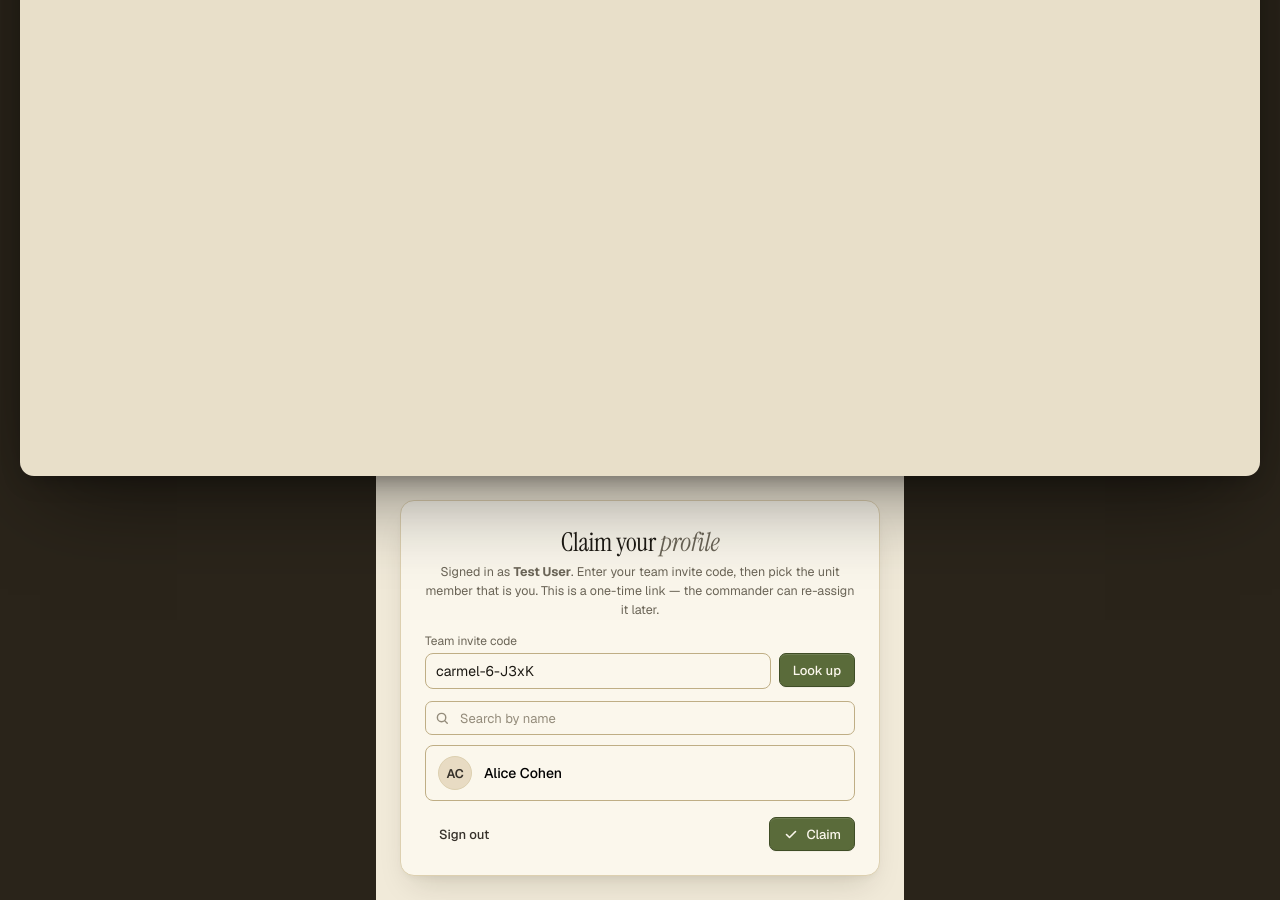
Test case: ClaimProfileScreen › shows an error message when the claim RPC rejects
(page scrolled)
Click the text "Alice Cohen". click: (523, 773)
box: 484,764 -> 562,782
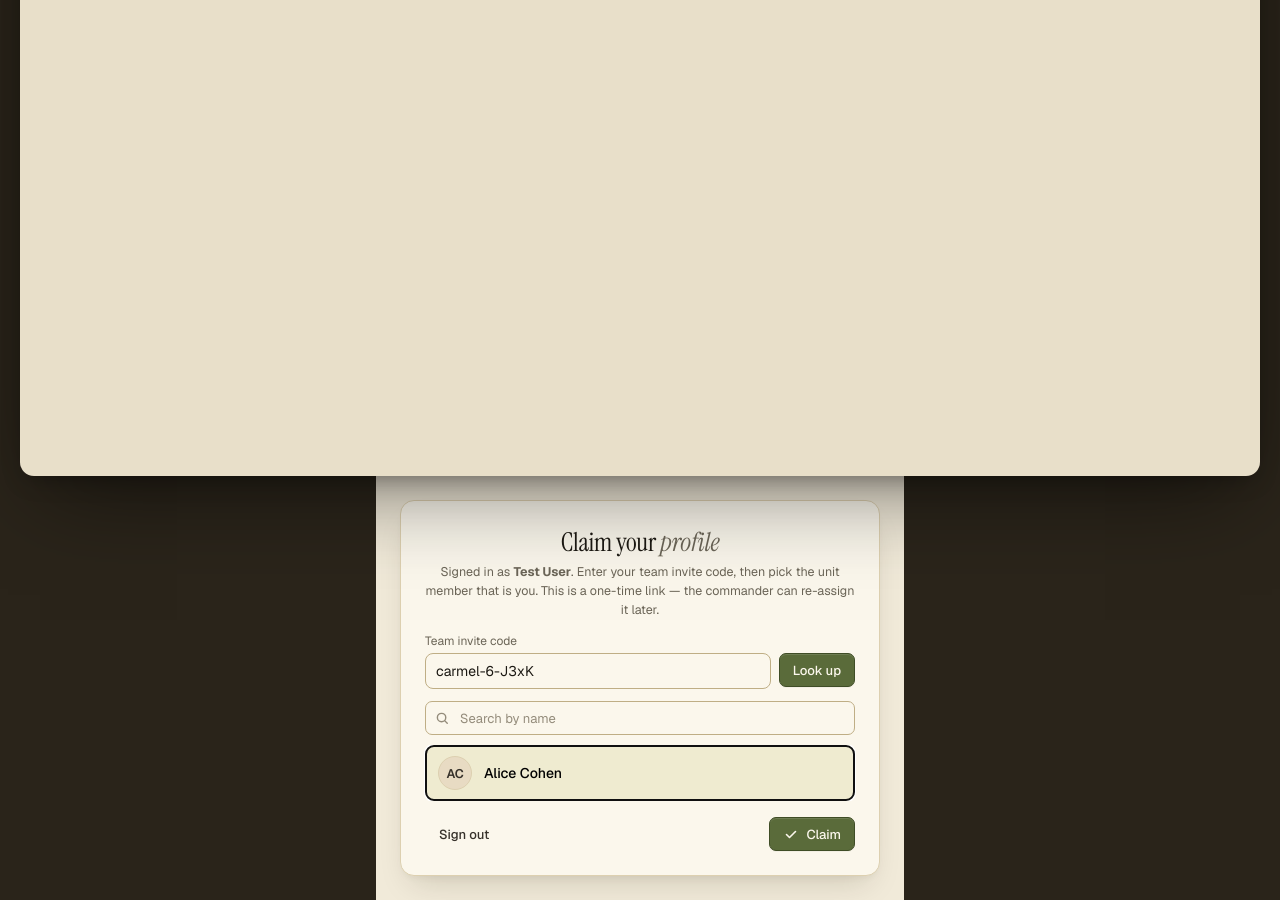
Click the button "Claim". click: (812, 834)
box: 769,817 -> 855,851
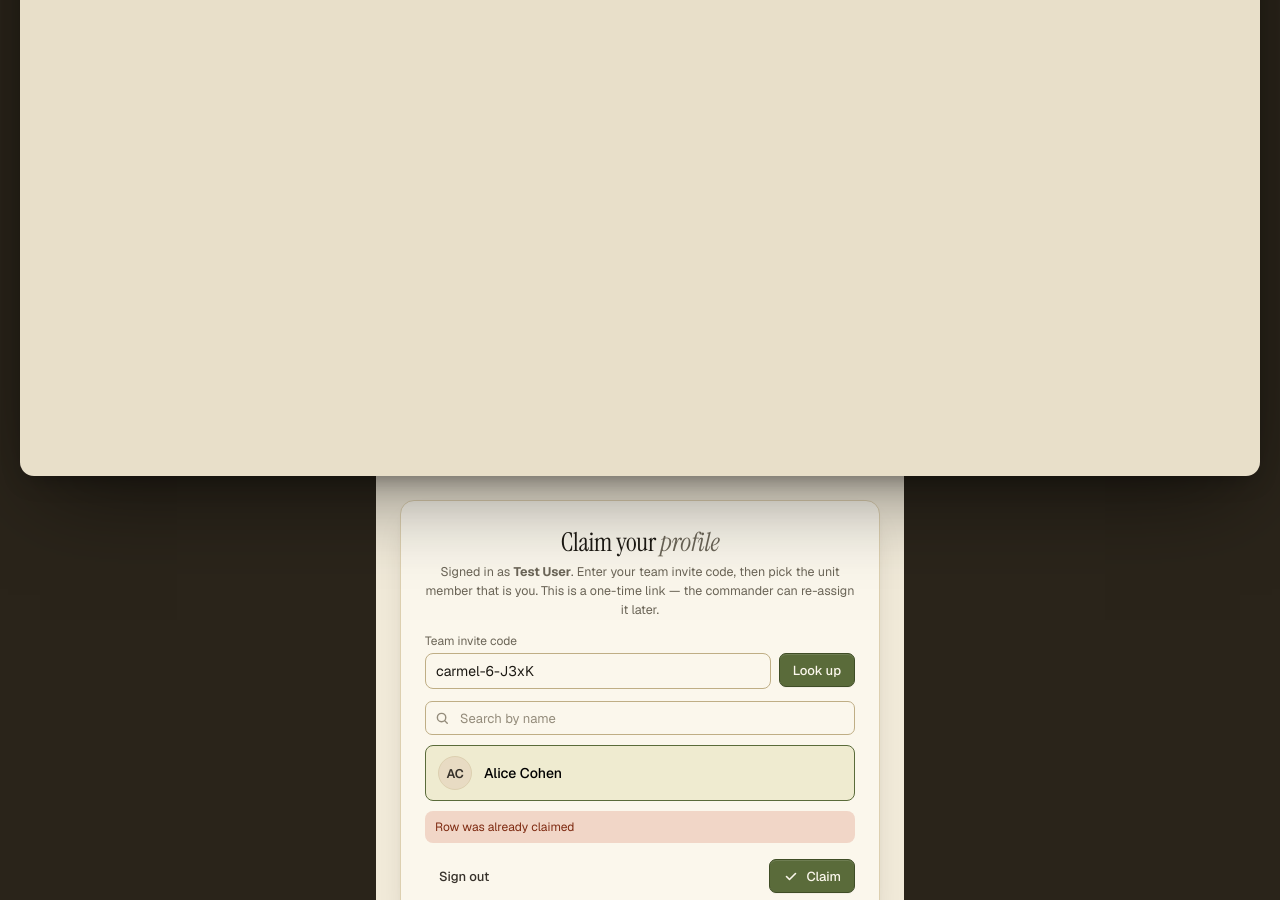
Result: the text "Row was already claimed" is shown at 425,811 -> 855,843
